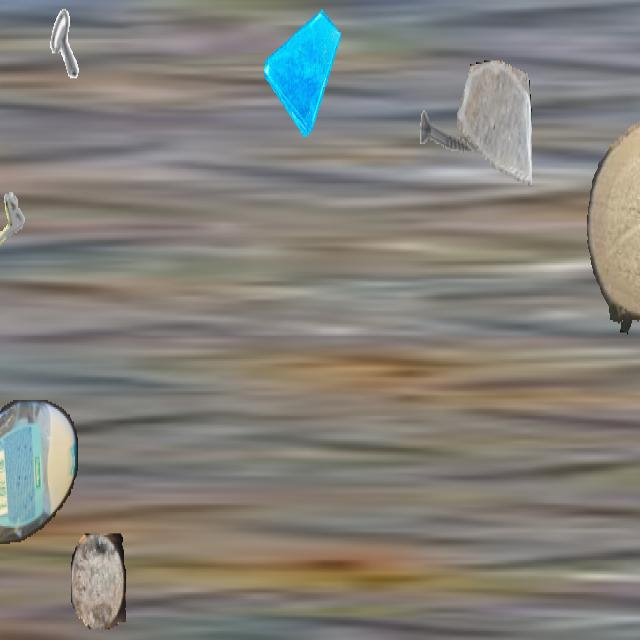glass: (264, 2, 340, 137), (457, 60, 531, 192)
metal: (18, 2, 80, 112), (418, 76, 480, 186), (0, 176, 29, 283)
plastic: (0, 400, 78, 564)
wood: (587, 119, 640, 336), (71, 534, 125, 630)
